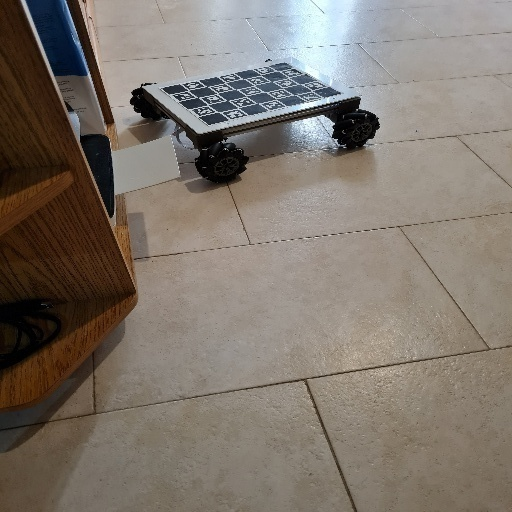Omniwheel: (129, 52, 382, 182)
